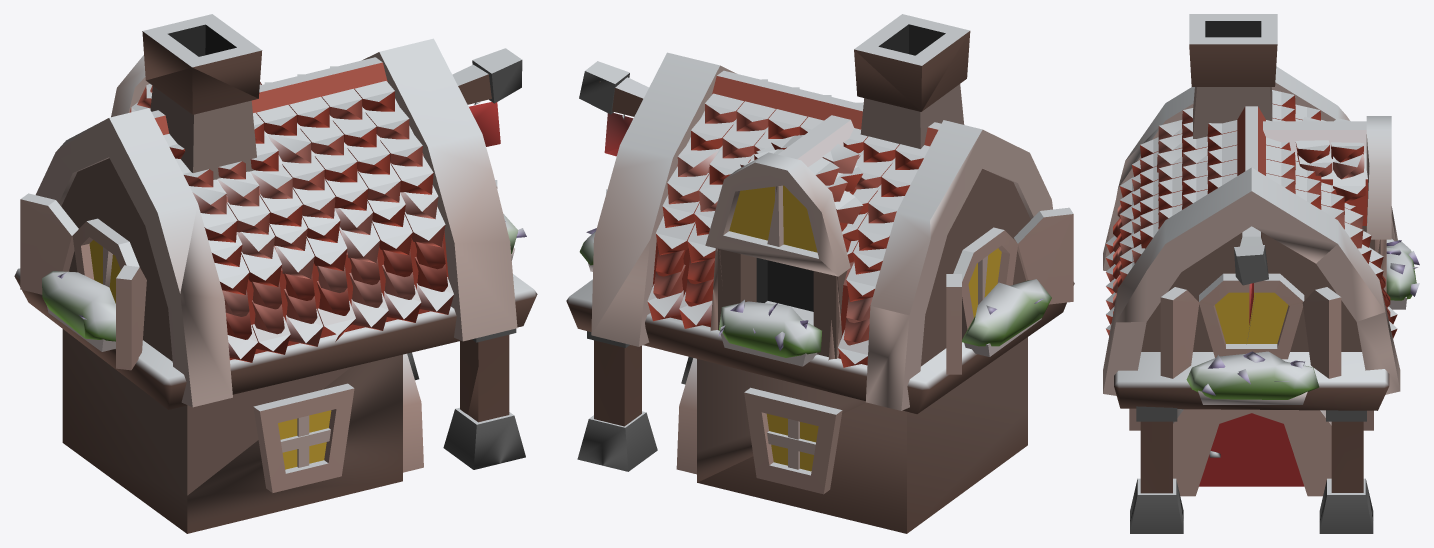
The model's file is sw_house_b.glb.
The picture shows the model from 3 angles, left to right: view 1: azimuth 30°, elevation 25°; view 2: azimuth 150°, elevation 25°; view 3: azimuth 270°, elevation 25°; orthographic projection. The views are drawn at different scales.
Parts seen in each view (by area): view 1: sw_house_b; view 2: sw_house_b; view 3: sw_house_b.
Boxes of the visible parts, bbox=[...] form: sw_house_b: bbox=[14, 14, 537, 533]; sw_house_b: bbox=[566, 14, 1074, 533]; sw_house_b: bbox=[1103, 14, 1419, 533].
Size of the model in its own units: 9.35 by 8.65 by 6.37.
